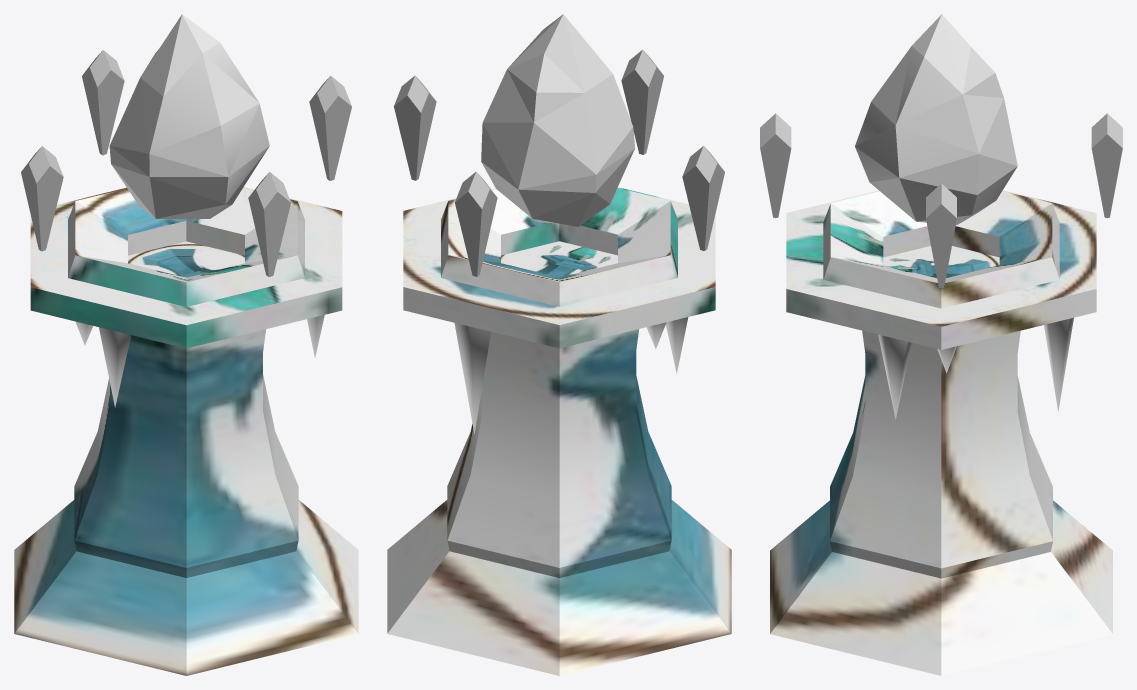
The model's file is ice-tower.FBX.
3 renders of one model, left to right at view 1: azimuth 30°, elevation 25°; view 2: azimuth 150°, elevation 25°; view 3: azimuth 270°, elevation 25°, orthographic.
Visible parts, largest first — view 1: Shape001, Line003, Object, Object006; view 2: Shape001, Line003, Object, Object006; view 3: Shape001, Line003, Object, Object006.
Boxes of the visible parts, box(x1,y1,x2,y2) form: Shape001: box(14, 187, 358, 675); Line003: box(109, 14, 269, 218); Object: box(21, 50, 351, 276); Object006: box(75, 315, 324, 407); Shape001: box(387, 187, 731, 675); Line003: box(481, 14, 634, 226); Object: box(394, 49, 724, 276); Object006: box(454, 317, 688, 434); Shape001: box(770, 190, 1112, 675); Line003: box(855, 14, 1017, 225); Object: box(760, 113, 1122, 288); Object006: box(878, 317, 1073, 419).
Bounding box in the file's own units: 39.39 × 63.26 × 36.09.
